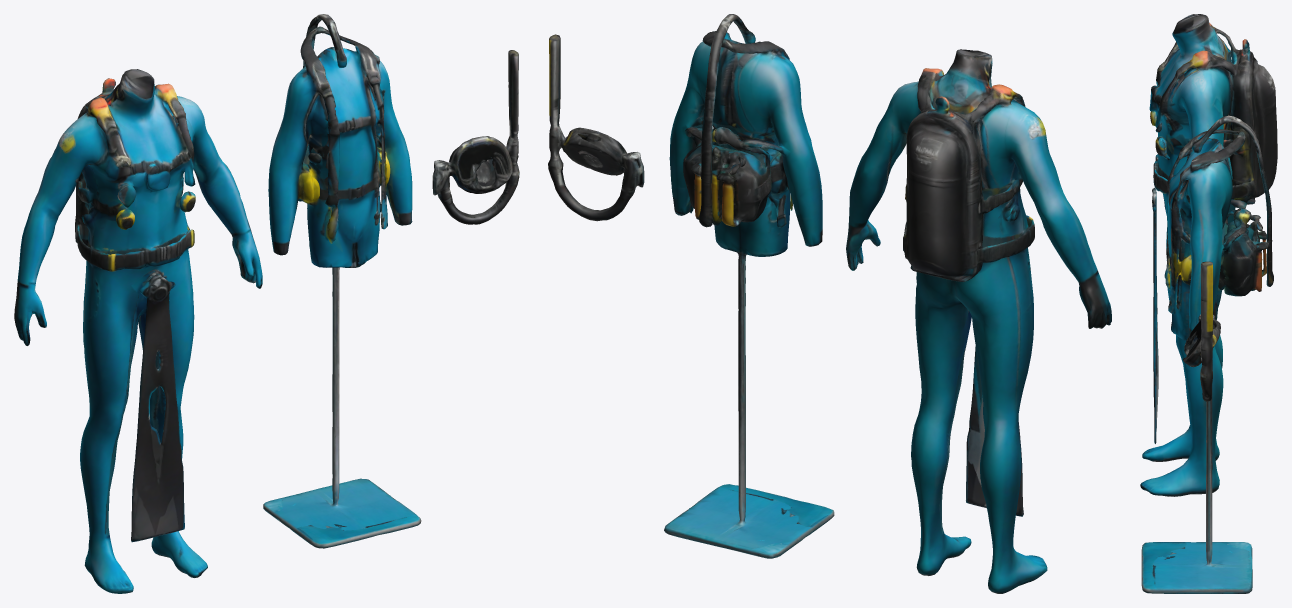
The model's file is Scuba.fbx.
The picture shows the model from 3 angles, left to right: view 1: azimuth 30°, elevation 25°; view 2: azimuth 150°, elevation 25°; view 3: azimuth 270°, elevation 25°; orthographic projection. The views are drawn at different scales.
Visible parts, largest first — view 1: Mesh1; view 2: Mesh1; view 3: Mesh1.
Part boxes in pixels (x1,y1,x2,y2): Mesh1: [14, 14, 519, 593]; Mesh1: [548, 14, 1111, 593]; Mesh1: [1140, 14, 1277, 593].
Size of the model in its own units: 199 by 184 by 49.85.
1 material, 1 textured.
